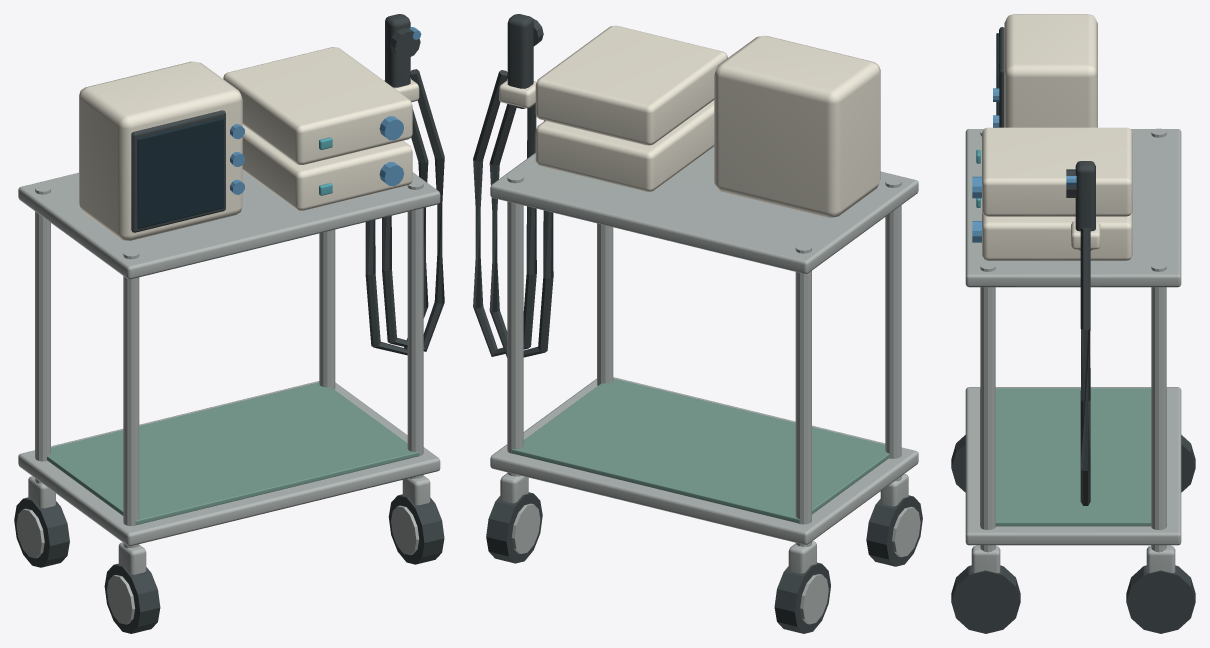
The model's file is endoscopy_tower_starter.glb.
3 renders of one model, left to right at view 1: azimuth 30°, elevation 25°; view 2: azimuth 150°, elevation 25°; view 3: azimuth 270°, elevation 25°, orthographic. The views are drawn at different scales.
Parts seen in each view (by area): view 1: STATIC_endoscopy_tower_starter; view 2: STATIC_endoscopy_tower_starter; view 3: STATIC_endoscopy_tower_starter.
Part boxes in pixels (bbox=[...]): STATIC_endoscopy_tower_starter: bbox=[14, 14, 444, 633]; STATIC_endoscopy_tower_starter: bbox=[473, 14, 922, 633]; STATIC_endoscopy_tower_starter: bbox=[951, 14, 1195, 633].
Size of the model in its own units: 1.04 by 1.31 by 0.6.
